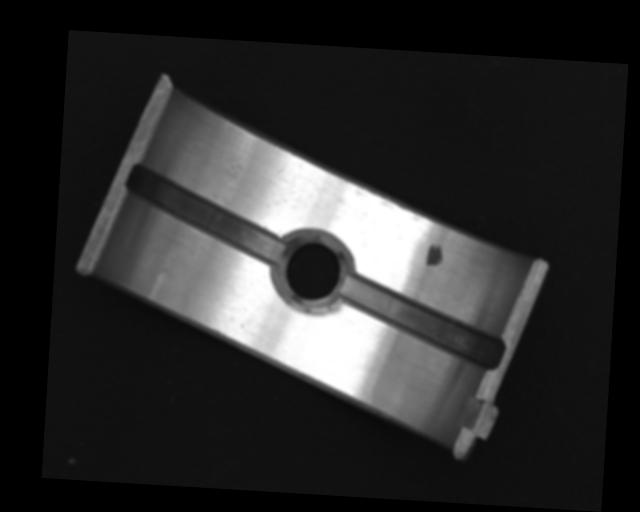blot: (425, 243, 444, 270)
gap: (120, 164, 289, 267), (339, 270, 506, 370)
hole: (277, 234, 348, 315)
